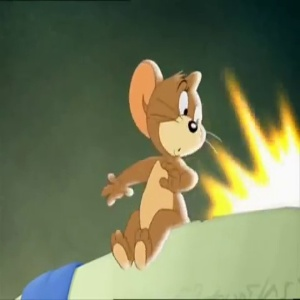Jerry: (123, 55, 211, 157)
